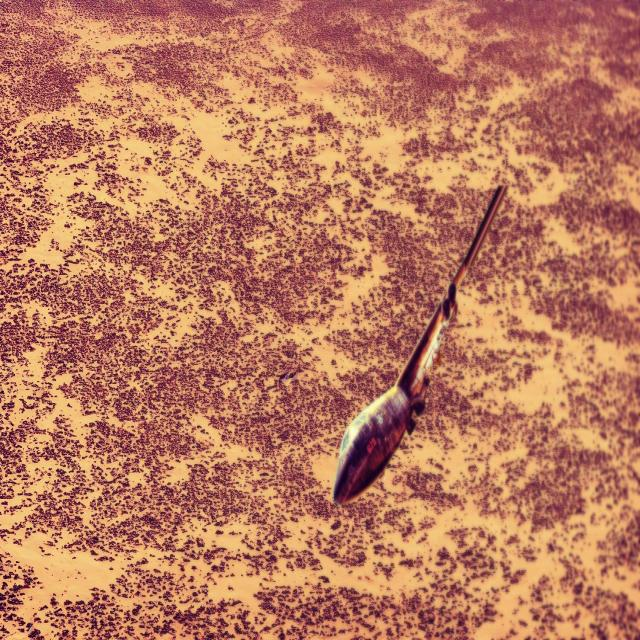airplane: (332, 182, 507, 506)
